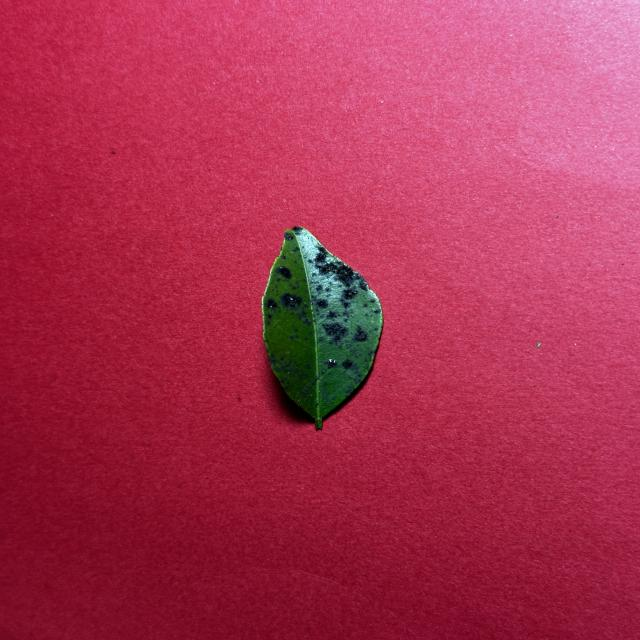sooty_mold: (262, 227, 382, 429)
